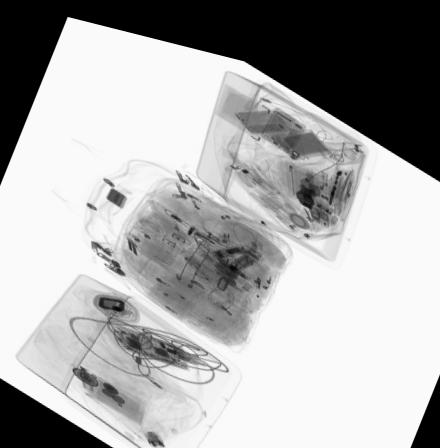Lighter: (319, 152, 329, 175)
